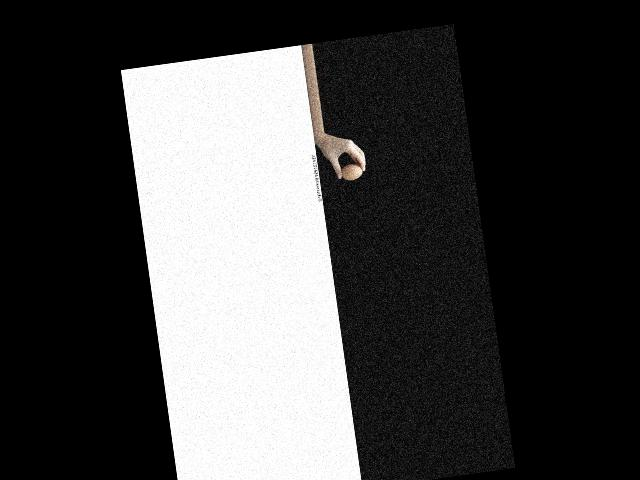egg: (340, 163, 364, 181)
